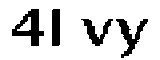4: (11, 7, 45, 51)
I: (47, 4, 66, 49)
v: (78, 14, 117, 50)
y: (114, 14, 149, 60)
